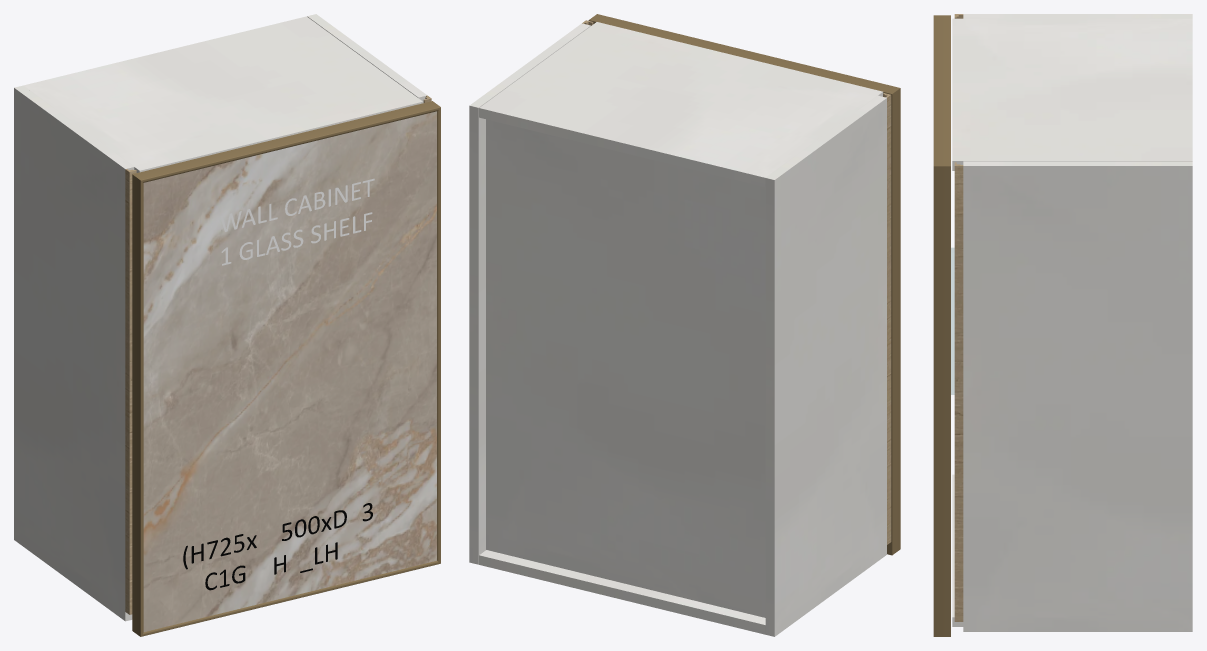
File: WC-SH-NHX-ST-1SG-LHS-XXX-500-725-336-15.glb
The picture shows the model from 3 angles, left to right: view 1: azimuth 30°, elevation 25°; view 2: azimuth 150°, elevation 25°; view 3: azimuth 270°, elevation 25°; orthographic projection. The views are drawn at different scales.
Visible parts, largest first — view 1: Object_node_4, TP_node_0, TP, Extrusion_node_1, Extrusion, Object_node_6, 2D text_node, Extrusion_node, Extrusion_node_0, TP_node_1, 2D text_node_0; view 2: TP_node_2, TP_node_0, TP, TP_node_1, TP_node, Extrusion_node_1, Extrusion, Object_node_6; view 3: TP_node_1, TP, Extrusion_node, Object_node_14, Extrusion, TP_node_0, TP_node, Object_node_1.
Part boxes in pixels (bbox=[...]): Object_node_4: bbox=[143, 111, 436, 631]; TP_node_0: bbox=[14, 85, 134, 621]; TP: bbox=[23, 16, 422, 172]; Extrusion_node_1: bbox=[132, 174, 143, 636]; Extrusion: bbox=[132, 101, 440, 182]; Object_node_6: bbox=[125, 169, 136, 614]; 2D text_node: bbox=[220, 178, 374, 265]; Extrusion_node: bbox=[437, 107, 440, 563]; Extrusion_node_0: bbox=[141, 561, 440, 636]; TP_node_1: bbox=[307, 14, 426, 103]; 2D text_node_0: bbox=[183, 503, 372, 569]; TP_node_2: bbox=[486, 119, 765, 617]; TP_node_0: bbox=[765, 95, 886, 636]; TP: bbox=[479, 22, 883, 187]; TP_node_1: bbox=[469, 23, 590, 564]; TP_node: bbox=[479, 550, 765, 634]; Extrusion_node_1: bbox=[887, 88, 900, 555]; Extrusion: bbox=[589, 14, 899, 94]; Object_node_6: bbox=[883, 93, 891, 544]; TP_node_1: bbox=[963, 161, 1192, 631]; TP: bbox=[952, 18, 1192, 170]; Extrusion_node: bbox=[933, 166, 950, 636]; Object_node_14: bbox=[954, 162, 963, 621]; Extrusion: bbox=[933, 15, 950, 166]; TP_node_0: bbox=[963, 14, 1192, 18]; TP_node: bbox=[952, 474, 963, 626]; Object_node_1: bbox=[951, 248, 953, 394].
Size of what is drawn, in the model's own units: 0.5 by 0.7235 by 0.366.
7 materials, 3 textured.
